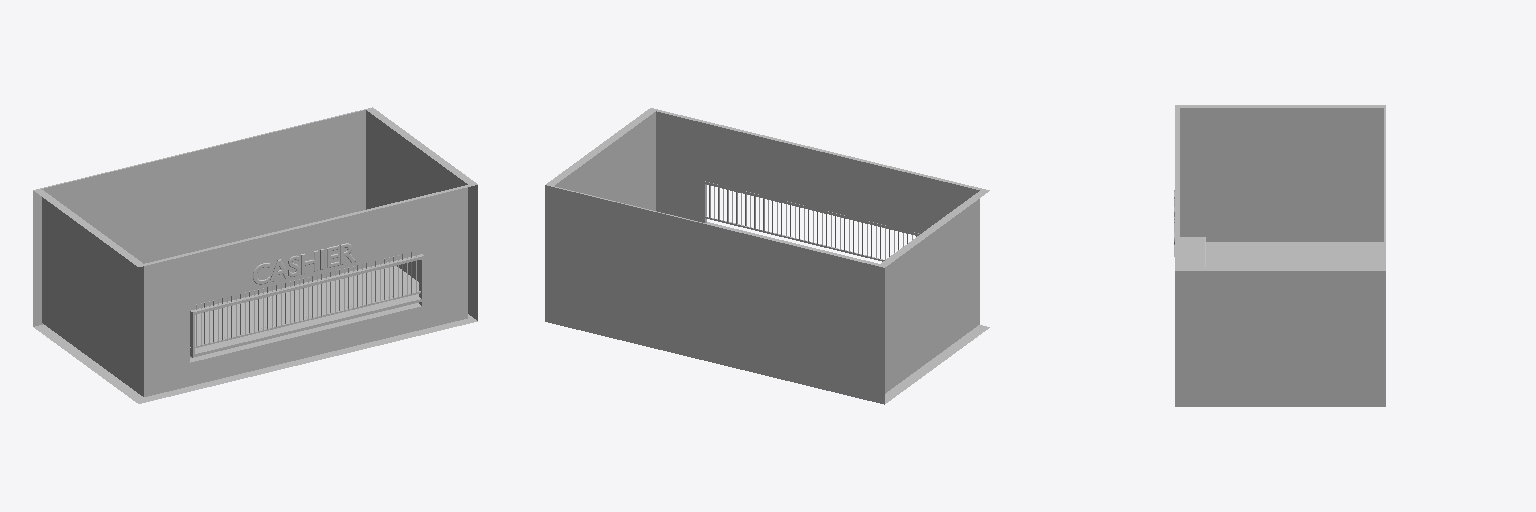
File: Cashier1.obj
3 views of the same model, side by side, from view 1: azimuth 30°, elevation 25°; view 2: azimuth 150°, elevation 25°; view 3: azimuth 270°, elevation 25° (orthographic).
Parts seen in each view (by area): view 1: Plane.004; view 2: Plane.004; view 3: Plane.004.
Boxes of the visible parts, x1=… form: Plane.004: x1=33, y1=107, x2=477, y2=403; Plane.004: x1=545, y1=108, x2=989, y2=404; Plane.004: x1=1174, y1=105, x2=1385, y2=406.
Bounding box in the file's own units: 13 × 5 × 7.04.